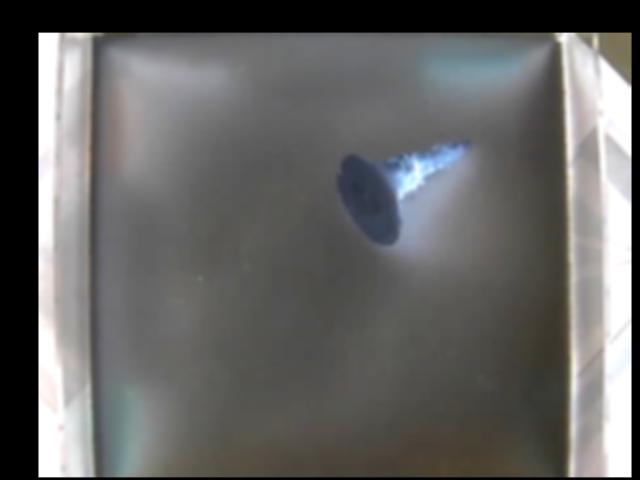Mooli: (336, 140, 472, 248)
